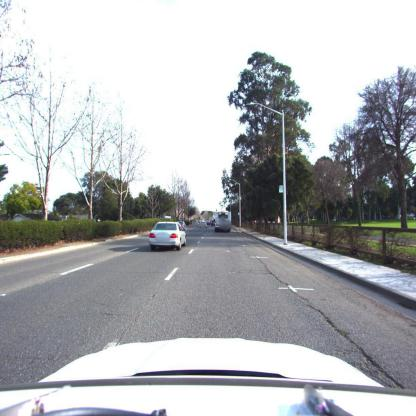car: (148, 221, 187, 253), (190, 217, 199, 228), (200, 220, 208, 229)
truck: (213, 212, 232, 232)
